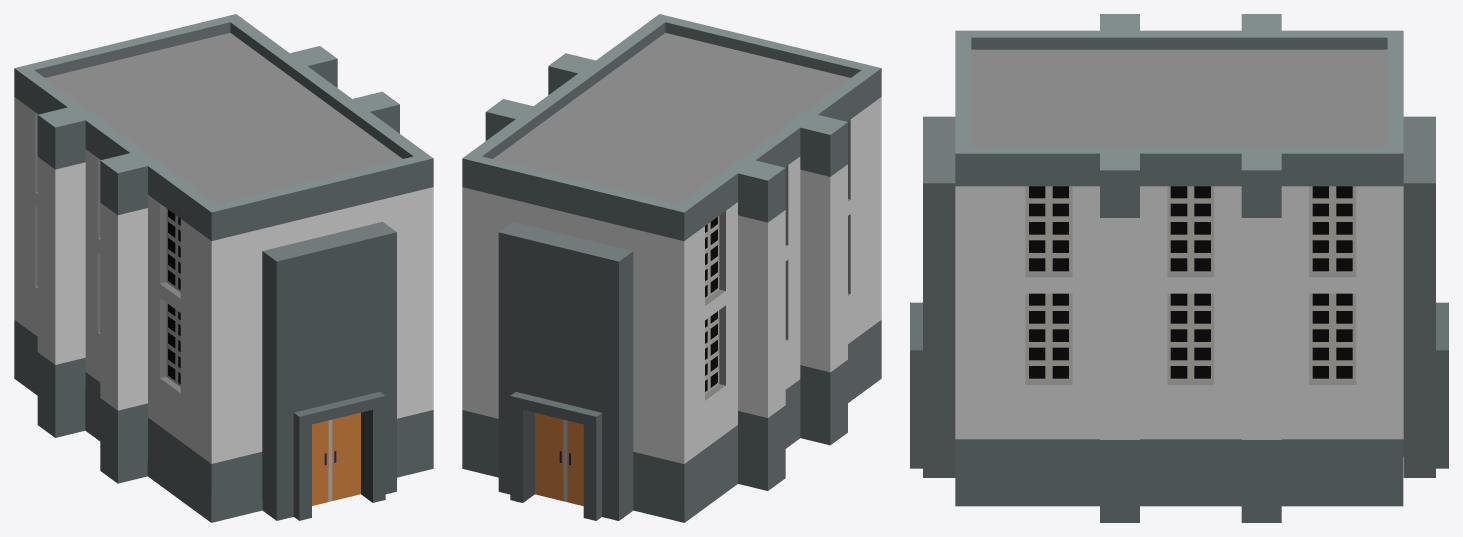
The model's file is Apartment001.fbx.
The picture shows the model from 3 angles, left to right: view 1: azimuth 30°, elevation 25°; view 2: azimuth 150°, elevation 25°; view 3: azimuth 270°, elevation 25°; orthographic projection. The views are drawn at different scales.
Visible parts, largest first — view 1: Arpartment001; view 2: Arpartment001; view 3: Arpartment001.
Boxes of the visible parts, bbox=[...] form: Arpartment001: bbox=[14, 14, 433, 522]; Arpartment001: bbox=[462, 14, 881, 522]; Arpartment001: bbox=[910, 14, 1448, 522].
Bounding box in the file's own units: 825 × 867 × 1201.
